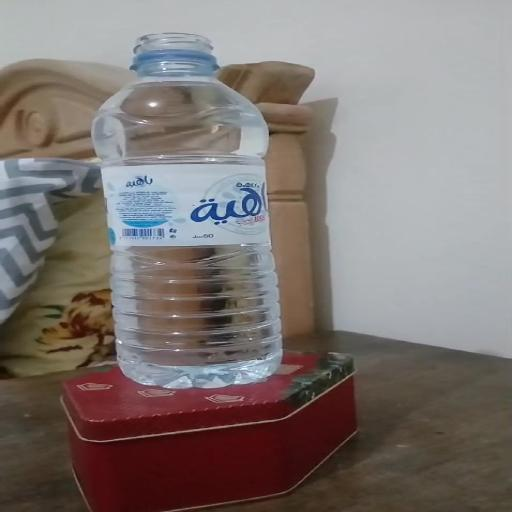bouteille non conformite: (70, 18, 310, 387), (96, 33, 272, 79)
